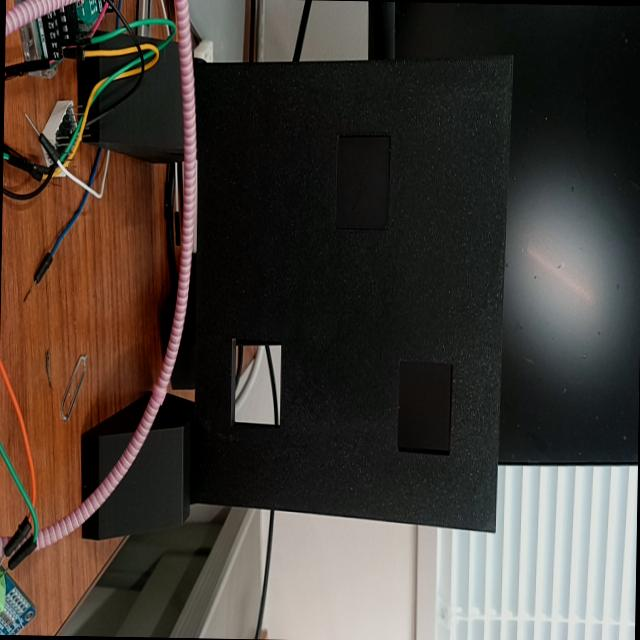Obstacle: (230, 338, 284, 424)
Wall: (191, 56, 511, 530)
